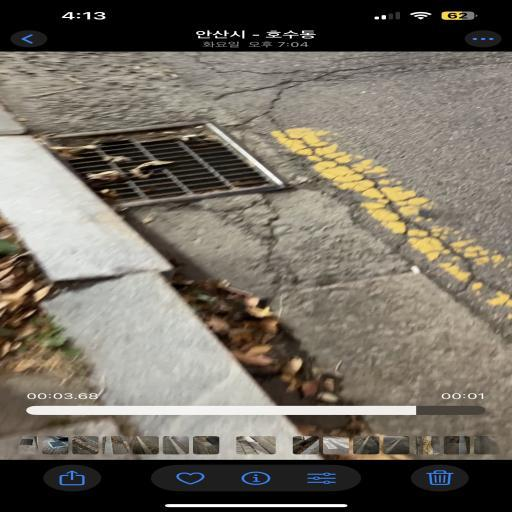debris: (129, 160, 172, 178), (50, 141, 98, 157), (86, 170, 124, 181), (100, 188, 116, 198), (104, 156, 129, 162), (181, 135, 194, 140)
drain: (41, 120, 286, 209)
